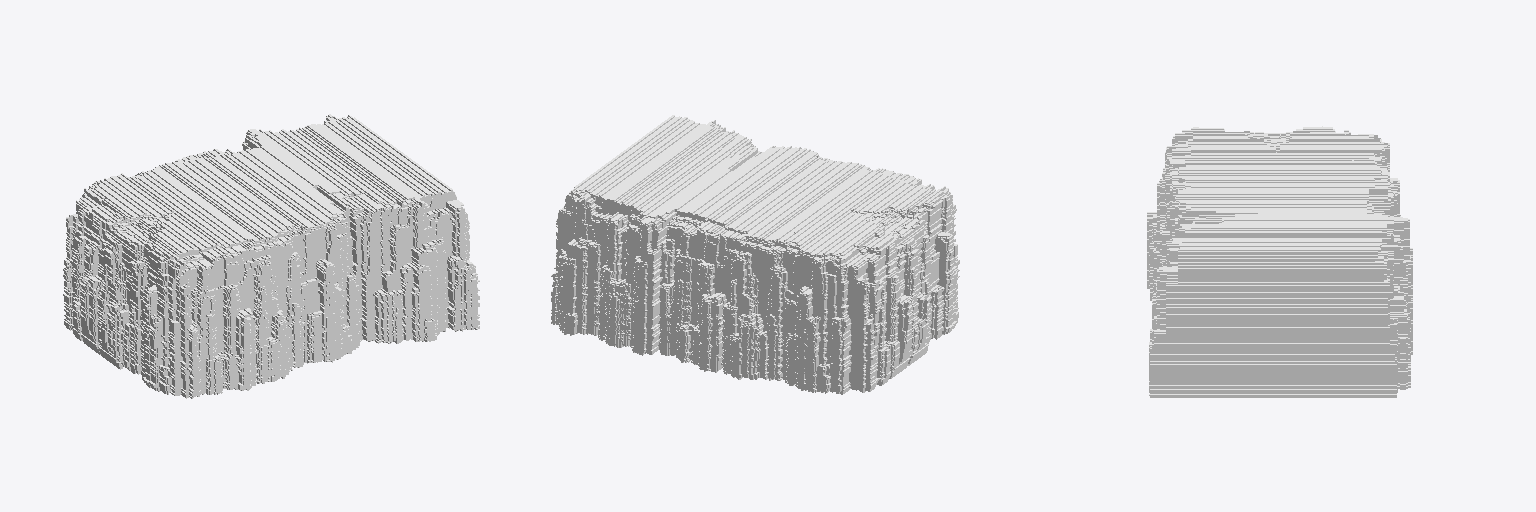
File: forest1.4-128.obj
3 renders of one model, left to right at view 1: azimuth 30°, elevation 25°; view 2: azimuth 150°, elevation 25°; view 3: azimuth 270°, elevation 25°, orthographic.
Visible parts, largest first — view 1: object 1; view 2: object 1; view 3: object 1.
Part boxes in pixels (left/top/right/bottom): object 1: left=63, top=114, right=479, bottom=398; object 1: left=551, top=115, right=959, bottom=394; object 1: left=1147, top=126, right=1412, bottom=397.
Size of the model in its own units: 25.4 by 10.6 by 18.4.